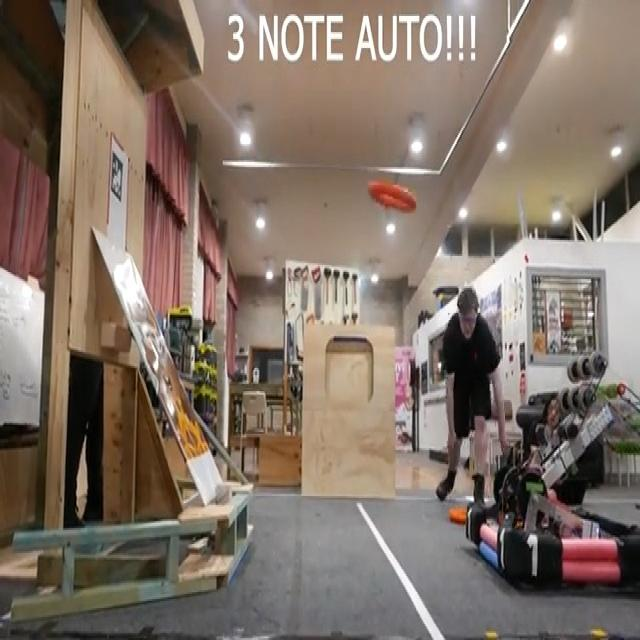note: (368, 182, 416, 209)
